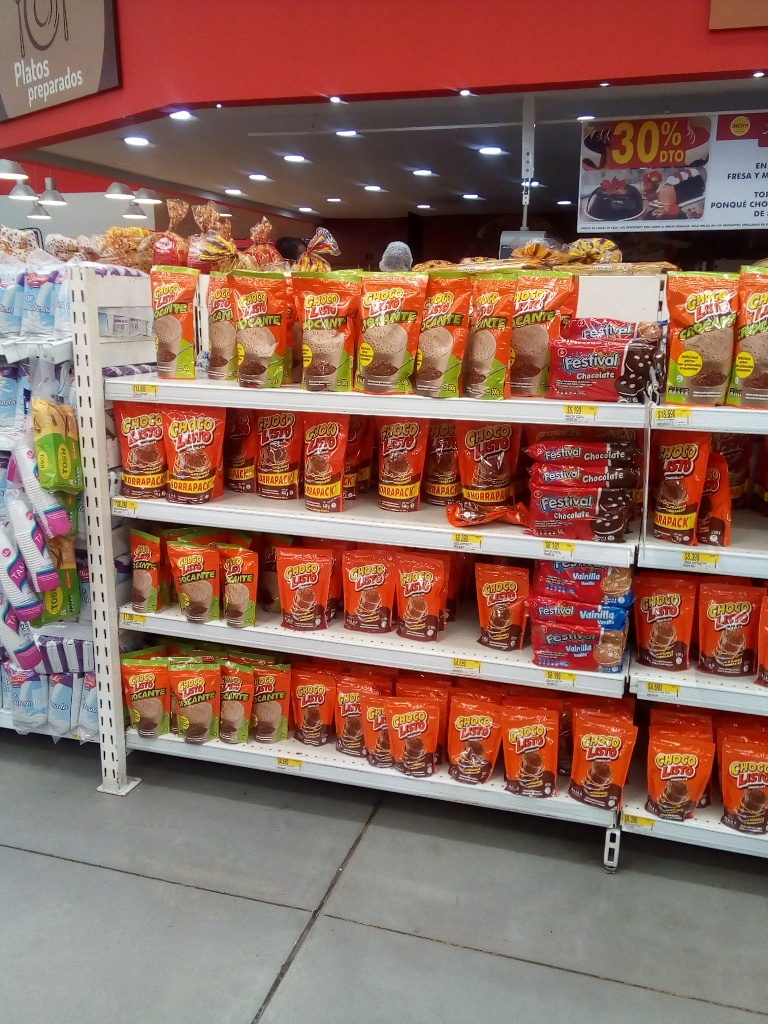COL0170102DYP25000: (122, 528, 168, 617)
COL0170102DYP50000: (142, 263, 196, 378)
COL0170103DYP44000: (115, 406, 159, 498)
